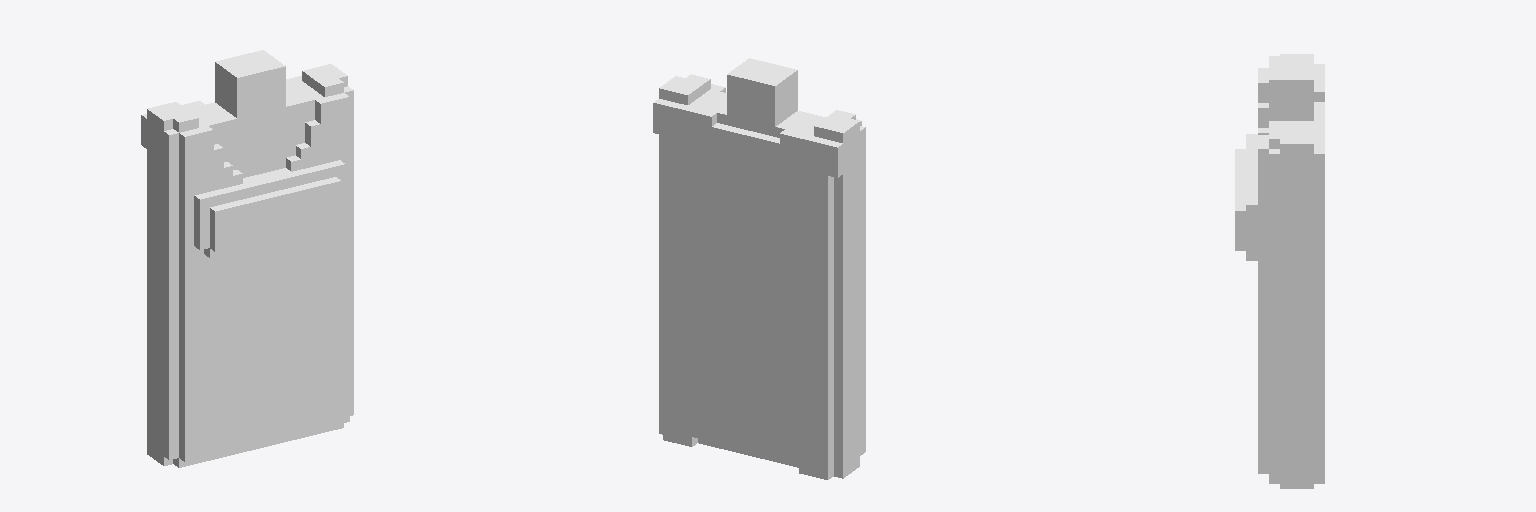
File: human1_chest.obj
The picture shows the model from 3 angles: view 1: azimuth 30°, elevation 25°; view 2: azimuth 150°, elevation 25°; view 3: azimuth 270°, elevation 25°; orthographic projection.
Parts seen in each view (by area): view 1: human1_chest; view 2: human1_chest; view 3: human1_chest.
Part boxes in pixels (x1,y1,x2,y2): human1_chest: (141, 50, 353, 467); human1_chest: (653, 58, 865, 479); human1_chest: (1235, 54, 1324, 488).
Size of the model in its own units: 19 by 37 by 8.